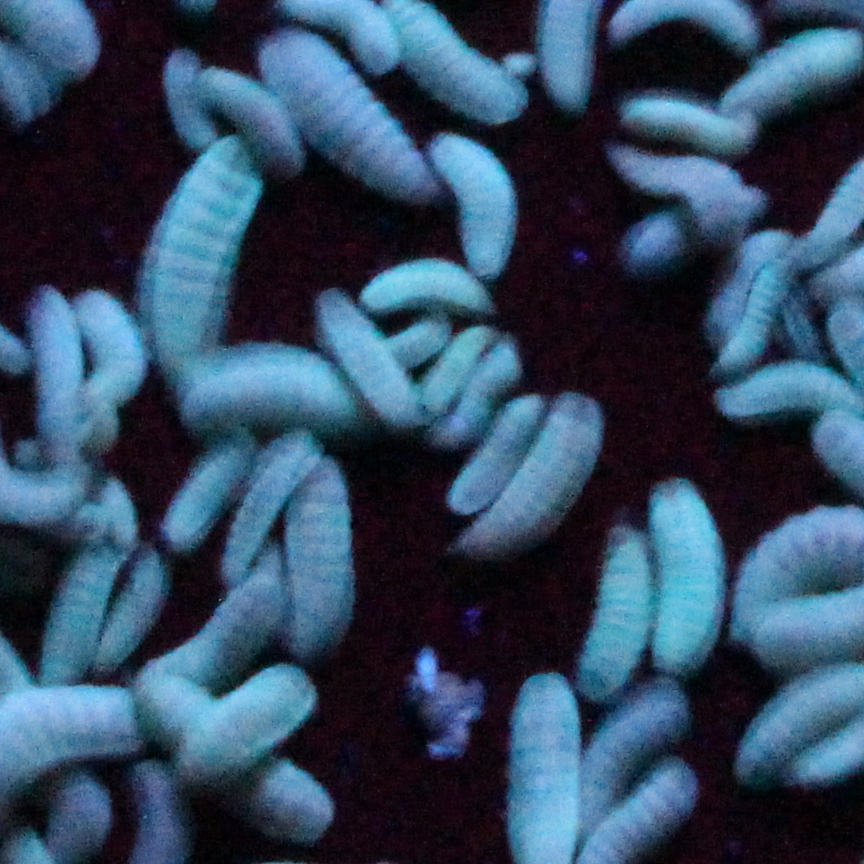larve: (248, 15, 439, 211), (141, 676, 332, 842), (134, 145, 260, 357), (170, 648, 333, 799), (309, 276, 436, 443), (643, 477, 734, 685), (274, 443, 360, 645), (426, 125, 532, 277), (231, 418, 321, 577), (194, 63, 311, 172), (347, 249, 500, 327), (605, 157, 757, 235), (161, 422, 255, 545), (537, 385, 602, 555), (40, 533, 110, 685), (68, 284, 143, 424), (613, 88, 766, 154), (587, 529, 648, 688), (462, 390, 536, 504), (109, 551, 170, 662), (451, 335, 516, 435)
